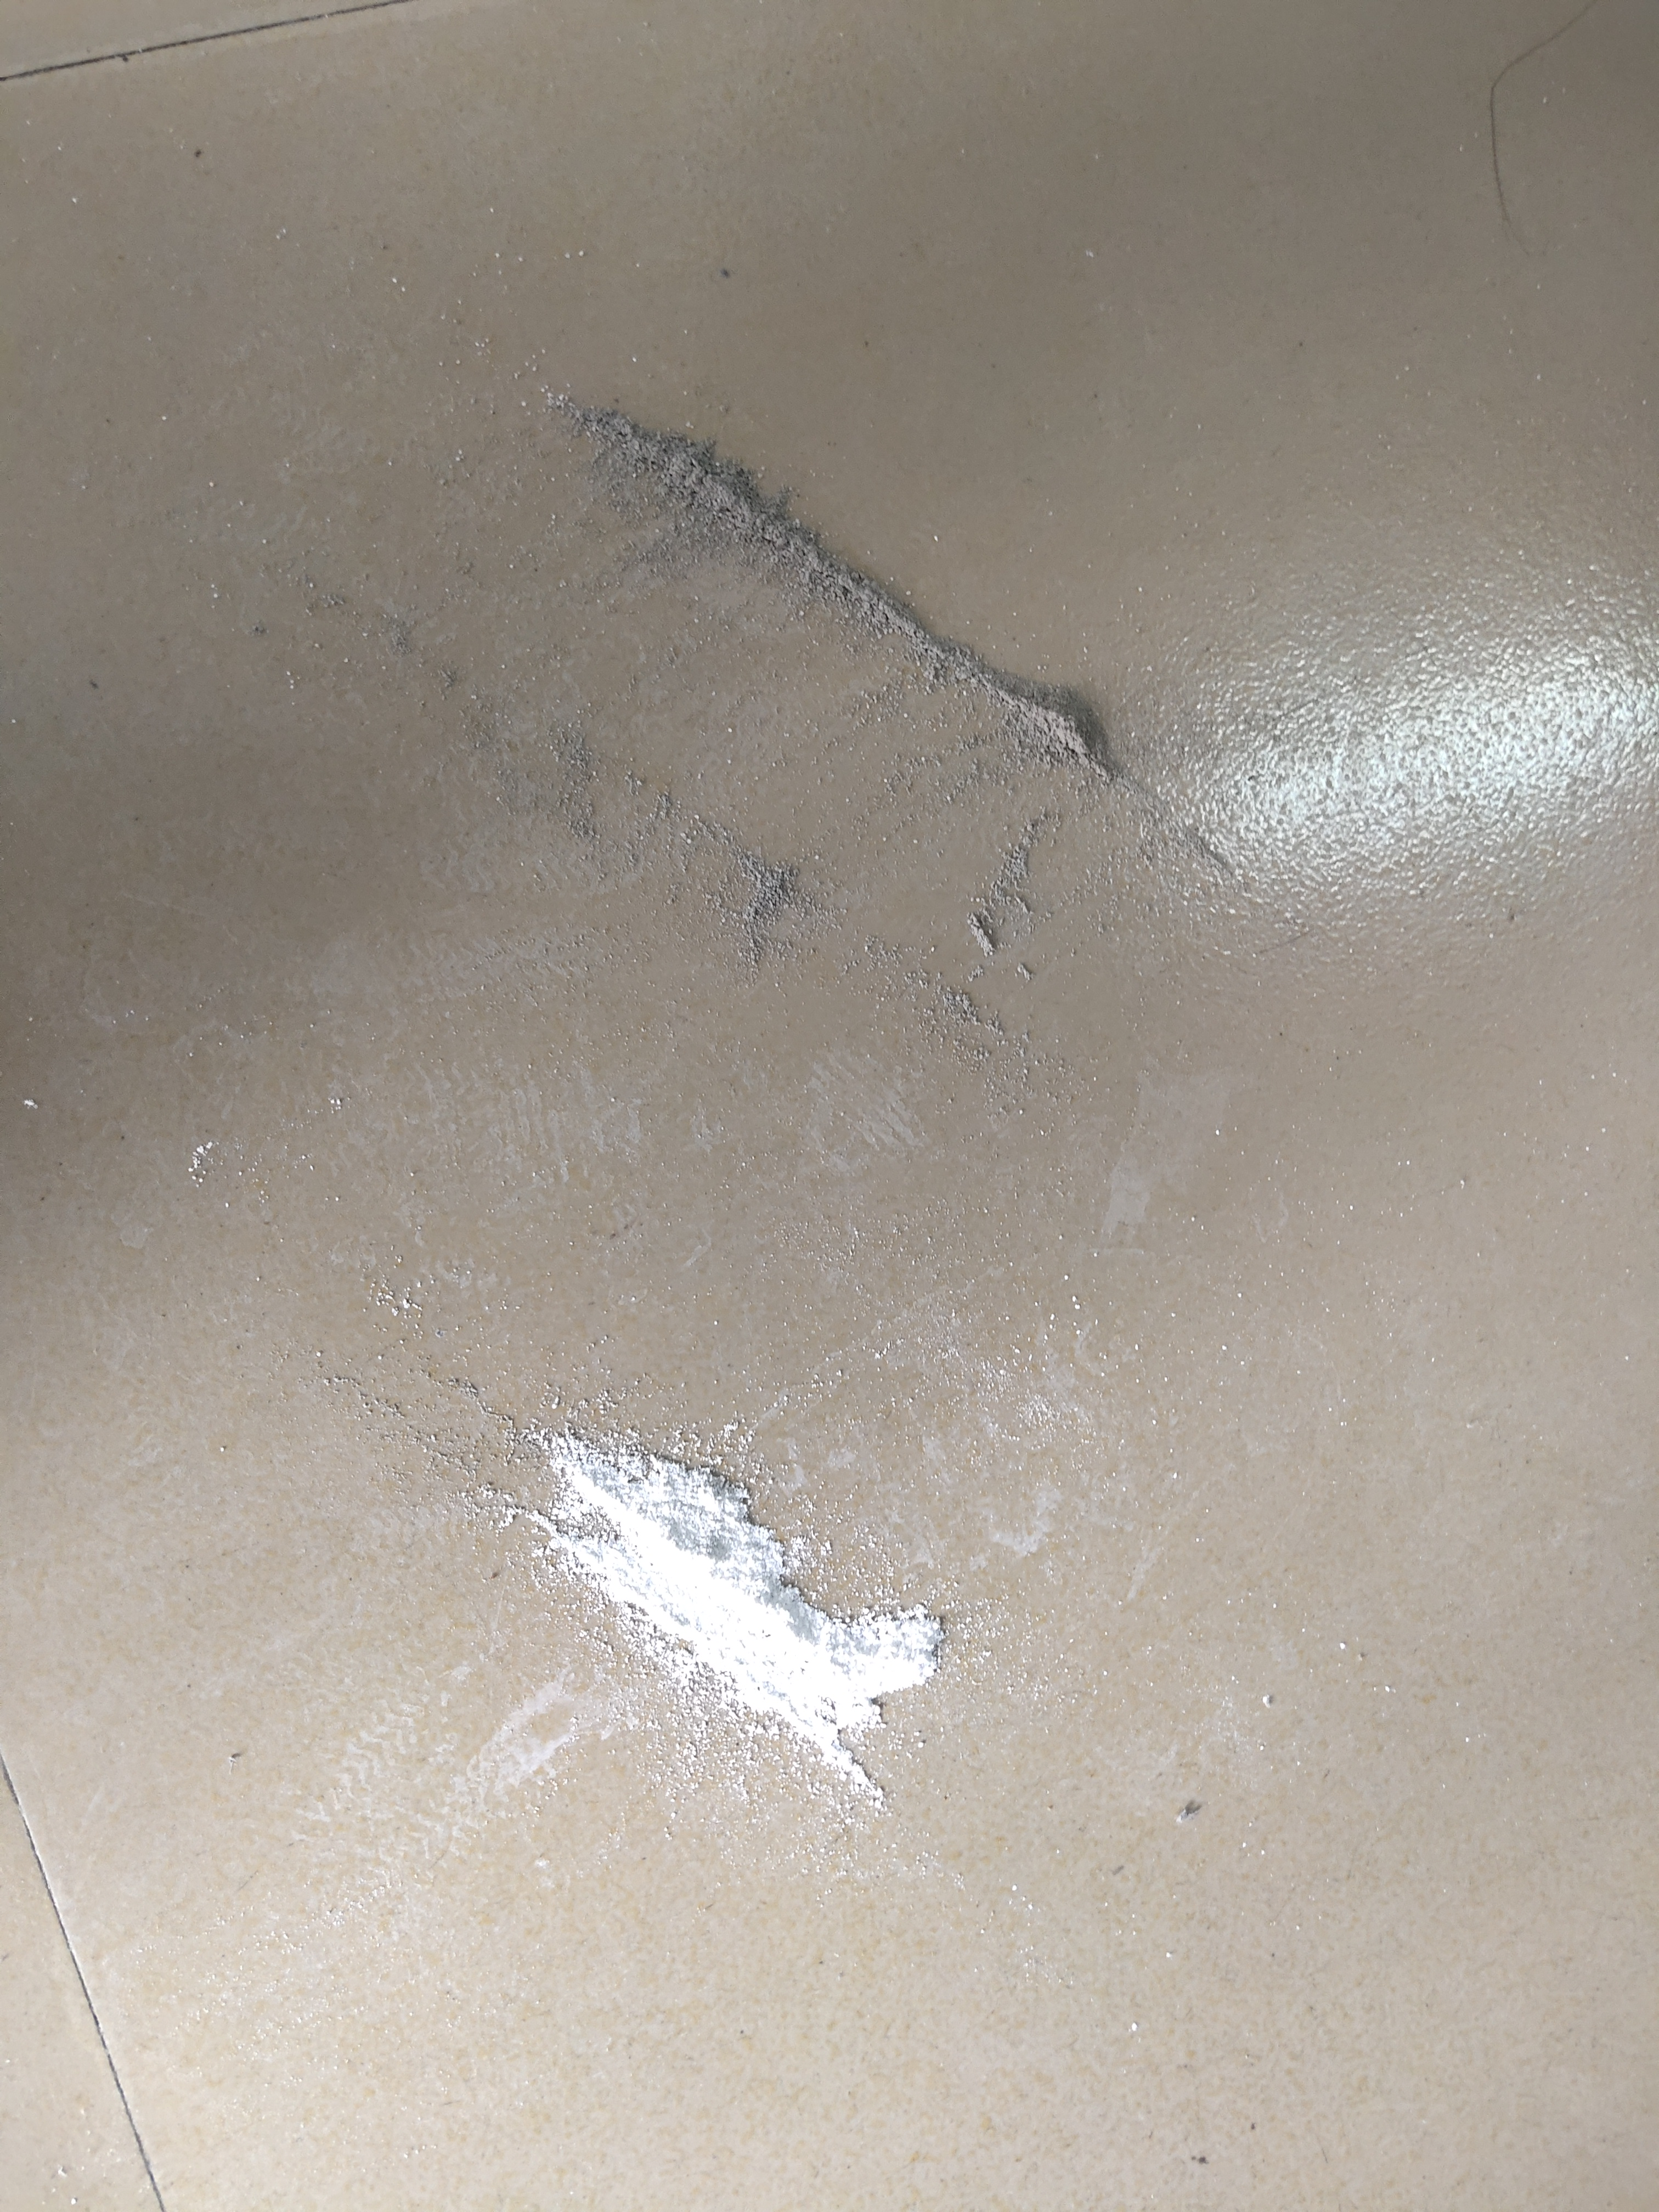ash pile: (552, 399, 1121, 796), (493, 1425, 946, 1799)
reflection: (1143, 610, 1657, 921)
